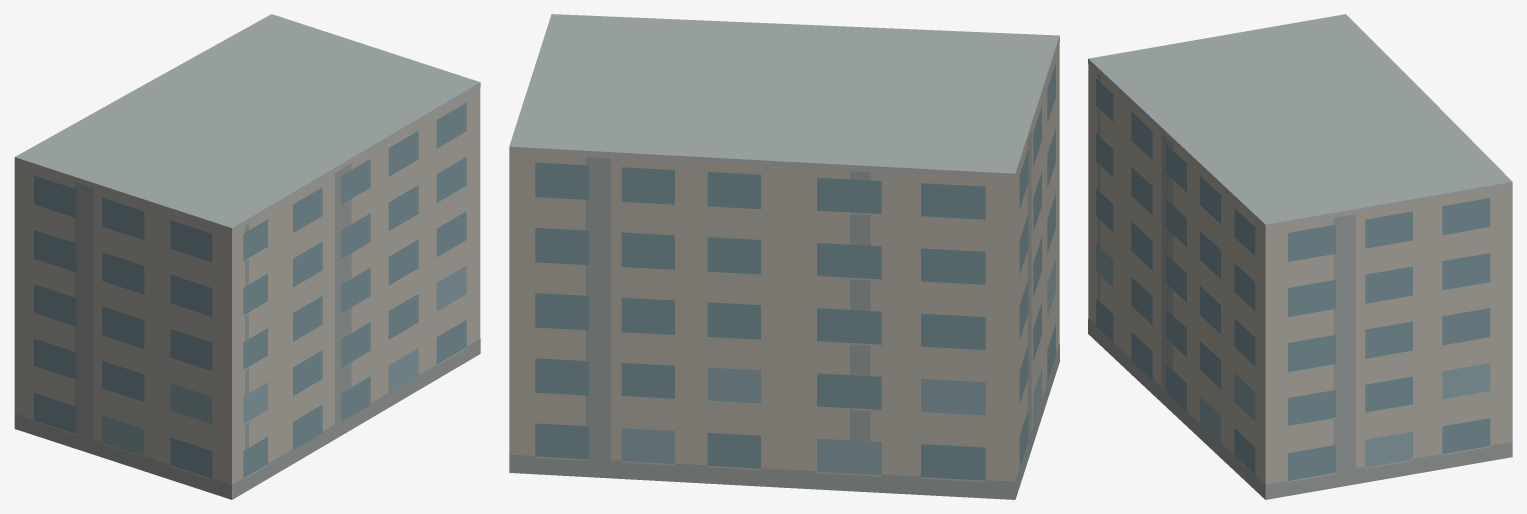
File: survey-upis-32938686.glb
3 views of the same model, side by side, from view 1: azimuth 30°, elevation 25°; view 2: azimuth 150°, elevation 25°; view 3: azimuth 270°, elevation 25° (orthographic). The views are drawn at different scales.
Parts seen in each view (by area): view 1: survey-upis-32938686.tmp; view 2: survey-upis-32938686.tmp; view 3: survey-upis-32938686.tmp.
Part boxes in pixels (box(x1,y1,x2,y2)): survey-upis-32938686.tmp: box(14, 14, 480, 499); survey-upis-32938686.tmp: box(509, 14, 1059, 499); survey-upis-32938686.tmp: box(1088, 14, 1512, 499).
Size of the model in its own units: 20.69 by 12.6 by 17.62.
